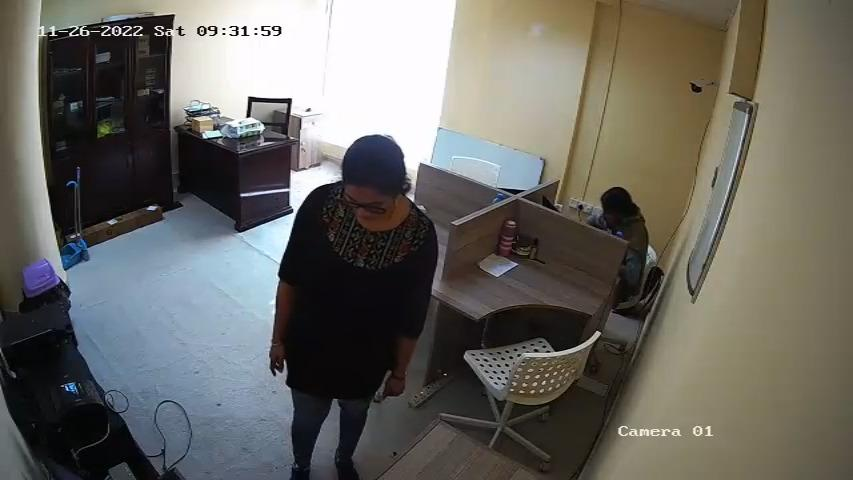no_apron: (296, 213, 403, 368)
